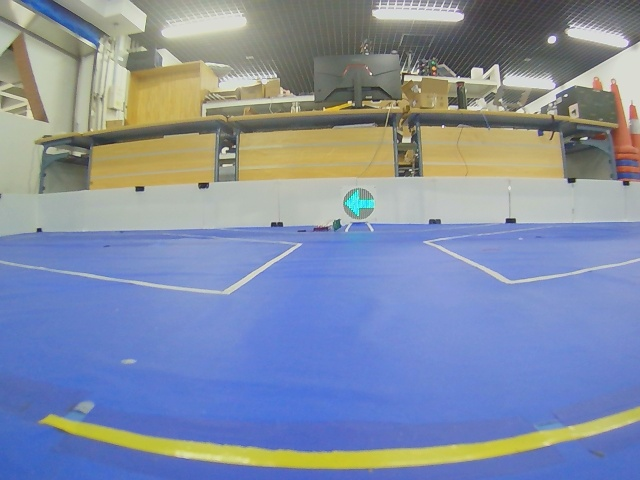left_green: (343, 188, 375, 220)
